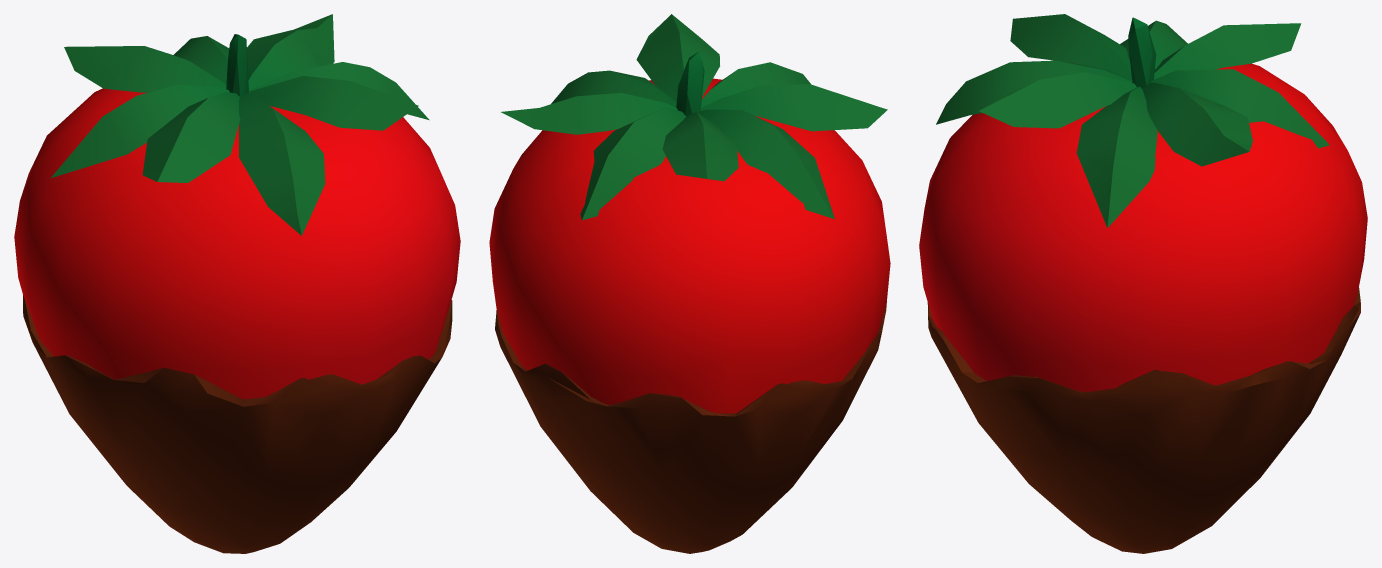
Rendered from Strawberry.fbx.
3 views of the same model, side by side, from view 1: azimuth 30°, elevation 25°; view 2: azimuth 150°, elevation 25°; view 3: azimuth 270°, elevation 25° (orthographic). The views are drawn at different scales.
Visible parts, largest first — view 1: Strawberry; view 2: Strawberry; view 3: Strawberry.
Boxes of the visible parts, <box> form: Strawberry: <box>14,14,460,553</box>; Strawberry: <box>489,14,890,553</box>; Strawberry: <box>919,14,1367,553</box>.
Bounding box in the file's own units: 23.42 × 31.18 × 24.07.
